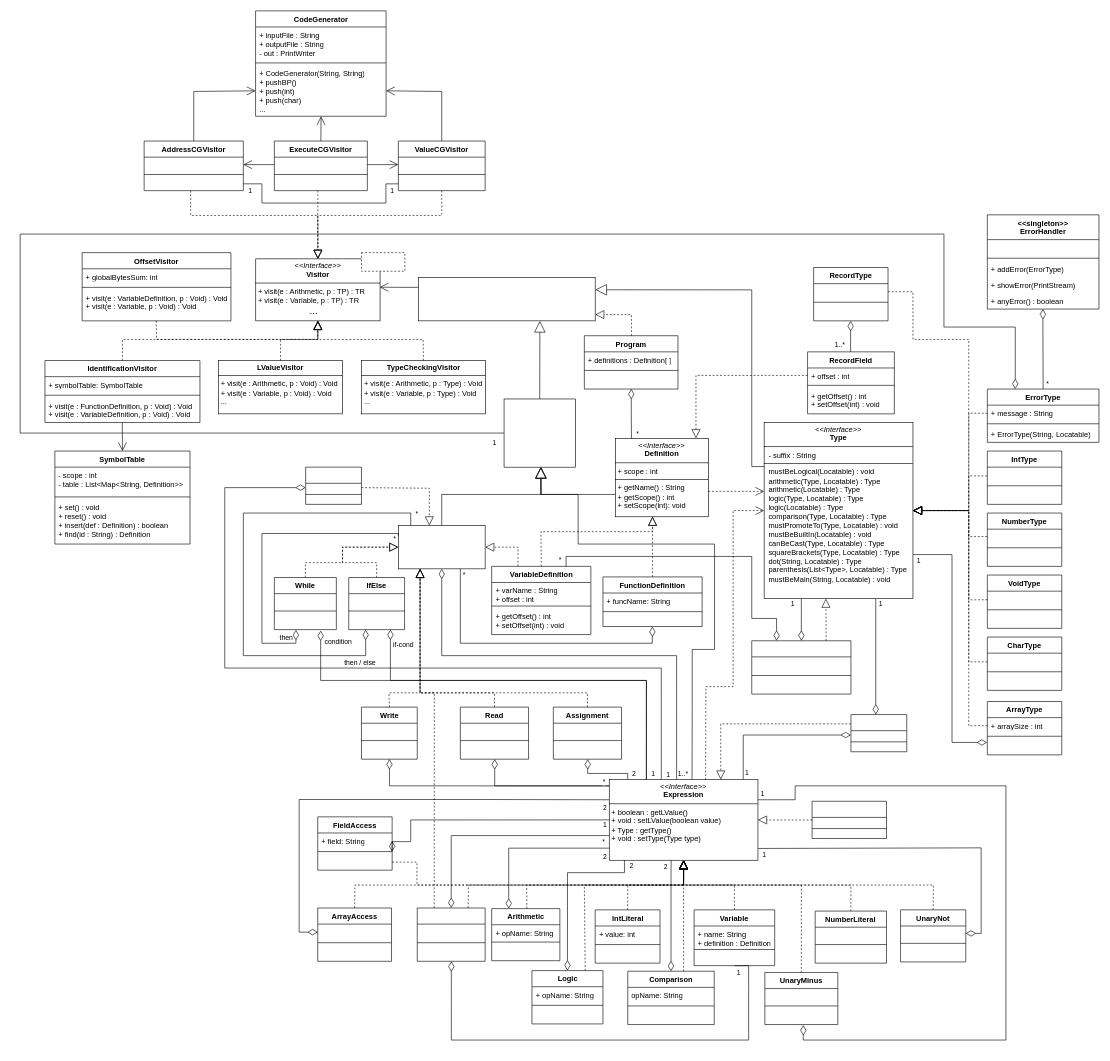
Image size: 1110x1061. Some labels were removed from this diagram. Each missing label, with the centre of its shape:
"<<Interface>> ASTNode + accept<TP, TR>(v : Visitor<TP, TR>, p : TP) : TR" belongs at point (506, 299).
"<<Interface>> Locatable + getRow() : int + getColumn() : int" belongs at point (539, 432).
"Cast" belongs at point (878, 733).
"CharLiteral" belongs at point (848, 819).
"FunctionCall" belongs at point (451, 934).
"FunctionType" belongs at point (801, 667).
"Return" belongs at point (333, 485).
"TP, TR" belongs at point (383, 261).
"«interface» Statement" belongs at point (441, 547).
